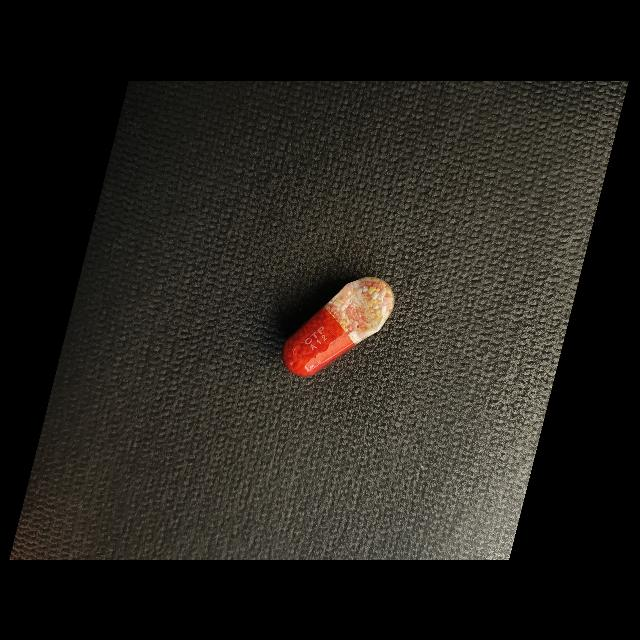Defective Capsule: (282, 276, 394, 376)
